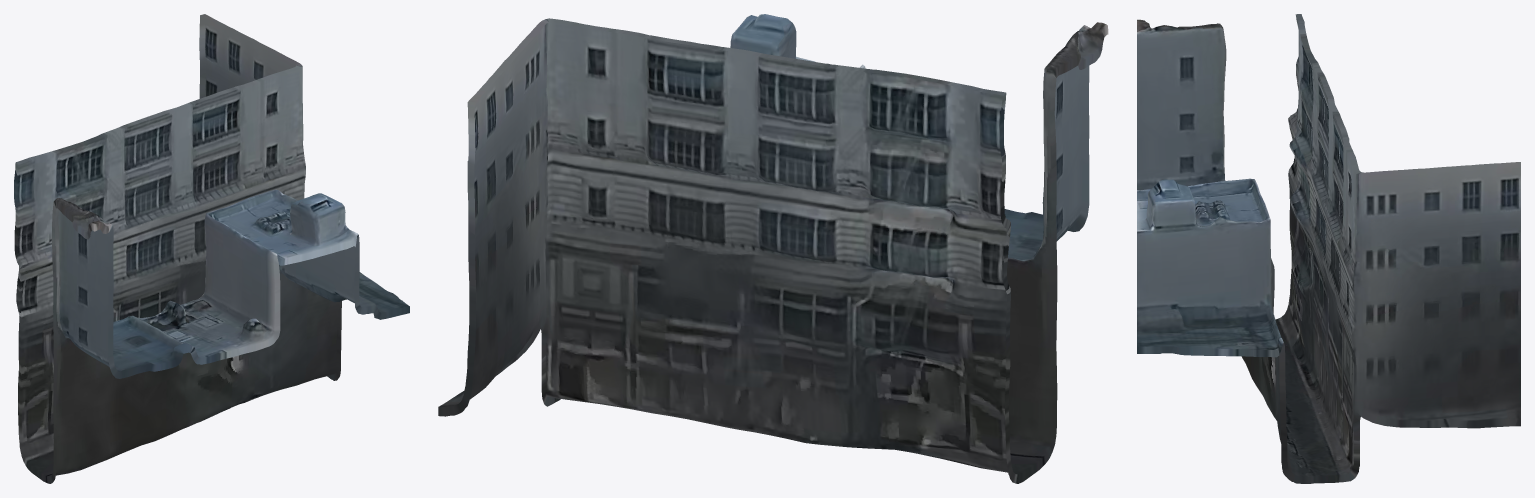
The model's file is z20-167759-405240-h0-yup-uvflip-v3-world.glb.
3 renders of one model, left to right at view 1: azimuth 30°, elevation 25°; view 2: azimuth 150°, elevation 25°; view 3: azimuth 270°, elevation 25°, orthographic. The views are drawn at different scales.
Bounding box in the file's own units: 30.2 × 27.32 × 30.32.
1 material, 1 textured.
